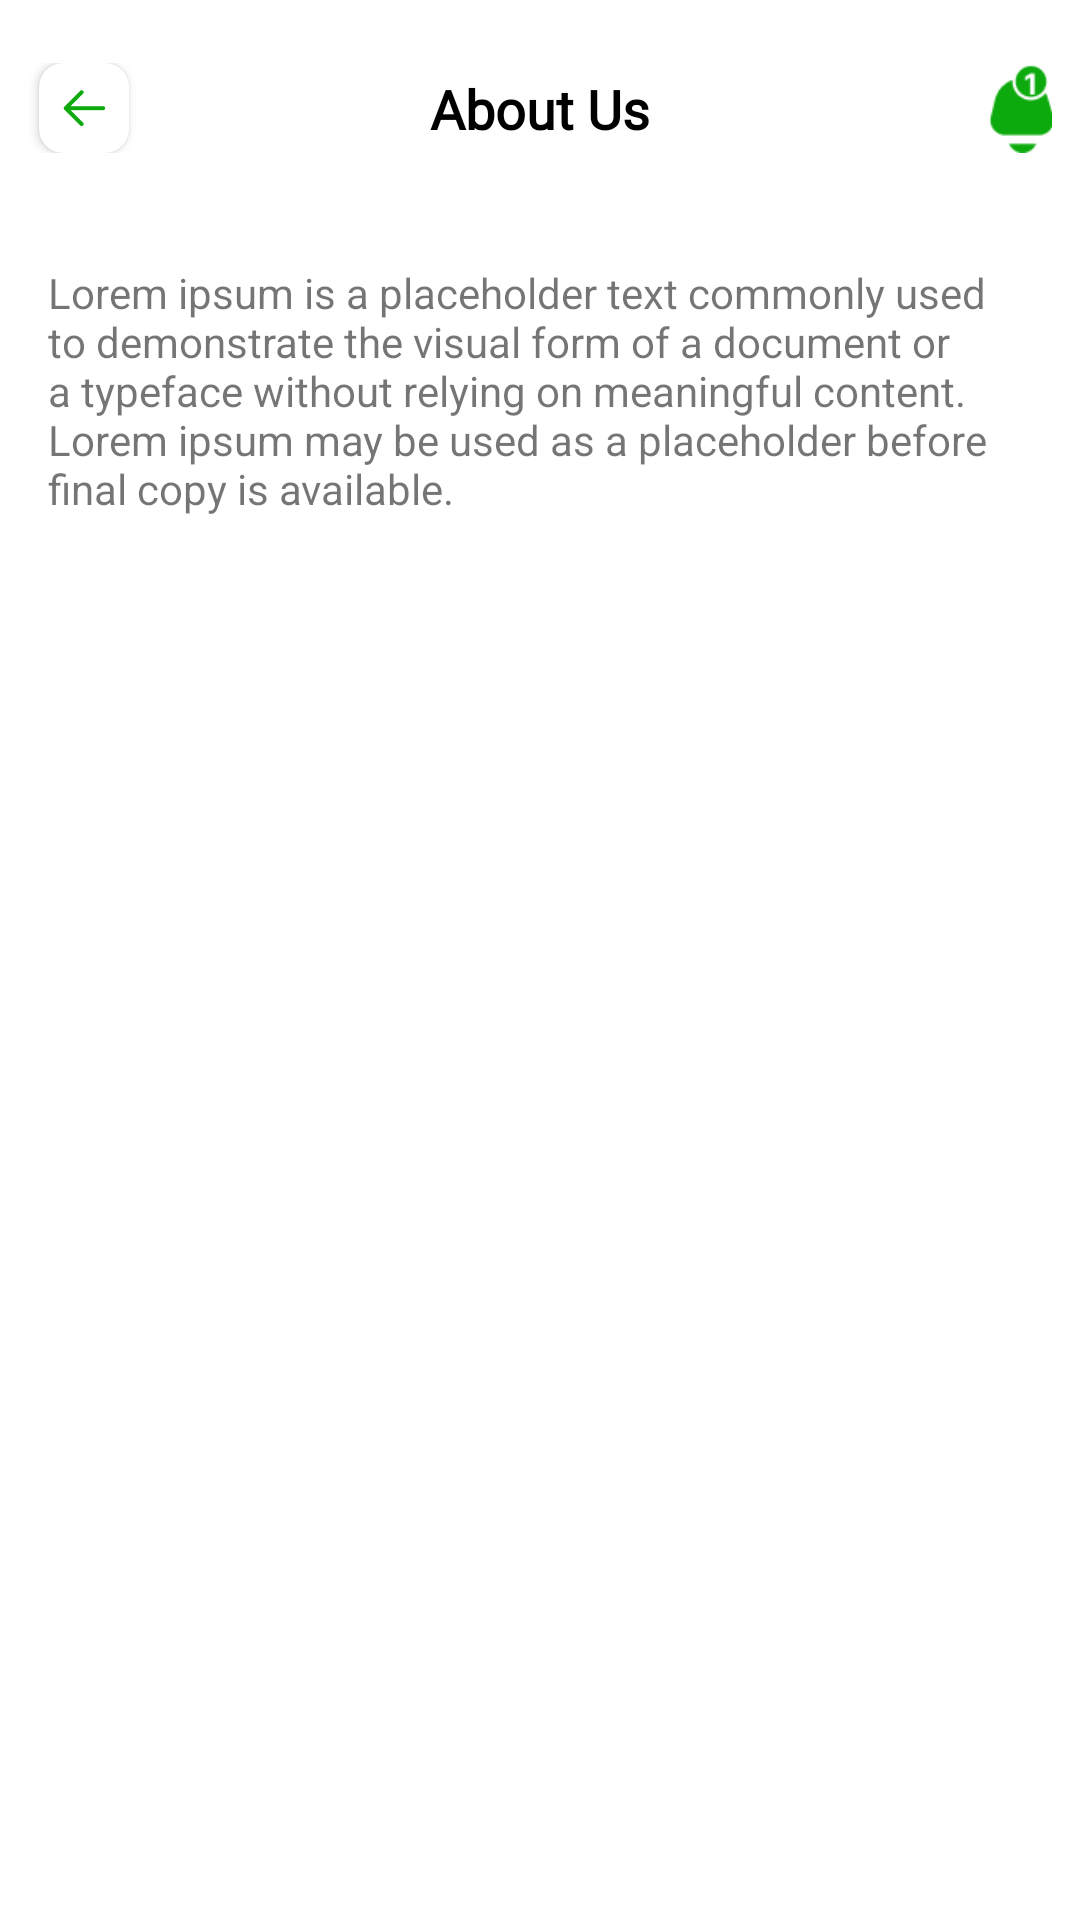

Screen size 1080*1920. Icon name, then its center in pixels as [x,y]:
arrow back: [72,109]
notiffication: [1021,109]
